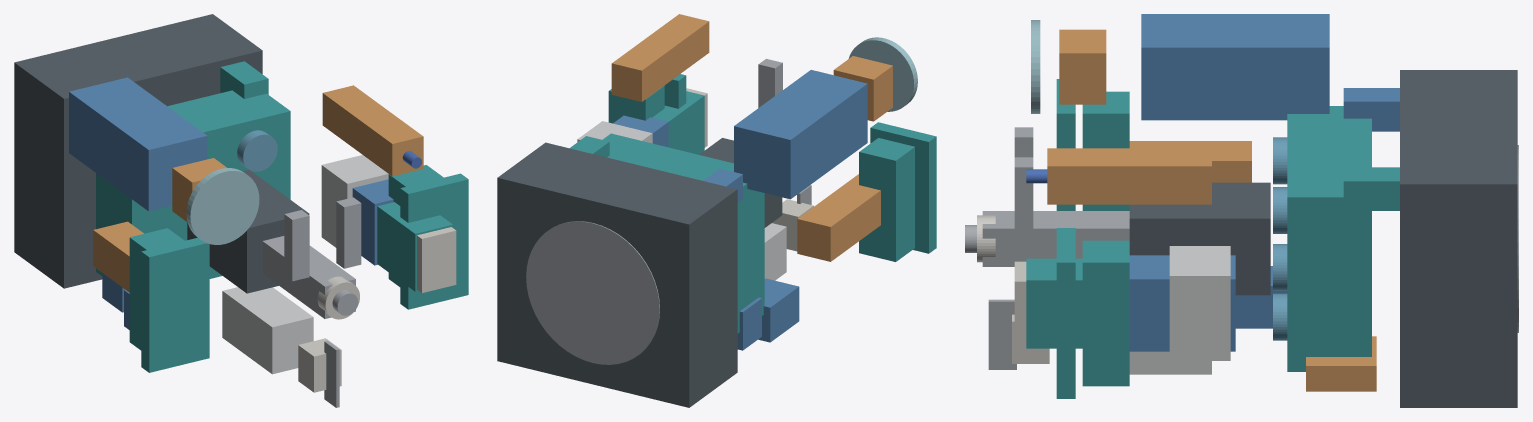
Rendered from dranmar_tumor_resection_tool_map.glb.
The picture shows the model from 3 angles, left to right: view 1: azimuth 30°, elevation 25°; view 2: azimuth 150°, elevation 25°; view 3: azimuth 270°, elevation 25°; orthographic projection. The views are drawn at different scales.
Parts seen in each view (by area): view 1: Mount_MountBody, BagDeployer_BagDeployerBody, SensorTurret_SensorTurretBody, LeftTraction_LeftPad, ScissorCarriage_ScissorCarriageBody, MarginMarker_MarginMarkerBody, RightTraction_RightPad, AspiratorCarriage_AspiratorCarriageBody, BagDeployer_BagRing, UltrasoundCompliance_UltrasoundComplianceBody, AspiratorRotor_AspiratorRotorBody, UltrasoundCarriage_UltrasoundCarriageBody (+15 smaller); view 2: Mount_MountBody, Mount_MountRing, BagDeployer_BagDeployerBody, SensorTurret_SensorTurretBody, LeftTraction_LeftTractionBody, MarginMarker_MarginMarkerBody, RamanProbe_RamanProbeBody, LeftTraction_LeftPad, BagDeployer_BagRing, UltrasoundCompliance_UltrasoundComplianceBody, BagClosure_BagClosureBody, OCTScannerY_OCTScannerYBody (+11 smaller); view 3: Mount_MountBody, BagDeployer_BagDeployerBody, SensorTurret_SensorTurretBody, AspiratorCarriage_AspiratorCarriageBody, MarginMarker_MarginMarkerBody, UltrasoundCarriage_UltrasoundCarriageBody, RightTraction_RightTractionBody, AspiratorRotor_AspiratorRotorBody, UltrasoundPitch_UltrasoundPitchBody, BagClosure_BagClosureBody, UltrasoundCompliance_UltrasoundComplianceBody, RightTraction_RightPad (+19 smaller).
Part boxes in pixels (box(x1,y1,x2,y2)): Mount_MountBody: box(14, 14, 262, 288); BagDeployer_BagDeployerBody: box(69, 77, 207, 211); SensorTurret_SensorTurretBody: box(96, 90, 290, 278); LeftTraction_LeftPad: box(141, 237, 209, 372); ScissorCarriage_ScissorCarriageBody: box(222, 287, 313, 374); MarginMarker_MarginMarkerBody: box(322, 85, 423, 176); RightTraction_RightPad: box(400, 173, 468, 309); AspiratorCarriage_AspiratorCarriageBody: box(187, 169, 309, 293); BagDeployer_BagRing: box(186, 168, 259, 244); UltrasoundCompliance_UltrasoundComplianceBody: box(377, 202, 453, 291); AspiratorRotor_AspiratorRotorBody: box(262, 236, 355, 318); UltrasoundCarriage_UltrasoundCarriageBody: box(321, 155, 388, 247); Mount_MountBody: box(497, 142, 737, 407); Mount_MountRing: box(526, 221, 659, 364); BagDeployer_BagDeployerBody: box(734, 70, 867, 199); SensorTurret_SensorTurretBody: box(602, 133, 764, 333); LeftTraction_LeftTractionBody: box(859, 138, 914, 261); MarginMarker_MarginMarkerBody: box(611, 14, 709, 101); RamanProbe_RamanProbeBody: box(797, 174, 880, 261); LeftTraction_LeftPad: box(870, 122, 936, 253); BagDeployer_BagRing: box(848, 37, 917, 111); UltrasoundCompliance_UltrasoundComplianceBody: box(652, 91, 704, 154); BagClosure_BagClosureBody: box(833, 56, 892, 121); OCTScannerY_OCTScannerYBody: box(758, 278, 799, 342); Mount_MountBody: box(1400, 70, 1517, 407); BagDeployer_BagDeployerBody: box(1141, 14, 1329, 120); SensorTurret_SensorTurretBody: box(1287, 106, 1371, 371); AspiratorCarriage_AspiratorCarriageBody: box(1129, 182, 1270, 295); MarginMarker_MarginMarkerBody: box(1047, 148, 1211, 204); UltrasoundCarriage_UltrasoundCarriageBody: box(1169, 246, 1230, 360); RightTraction_RightTractionBody: box(1082, 240, 1129, 386); AspiratorRotor_AspiratorRotorBody: box(982, 211, 1129, 266); UltrasoundPitch_UltrasoundPitchBody: box(1129, 255, 1235, 351); BagClosure_BagClosureBody: box(1059, 29, 1106, 104); UltrasoundCompliance_UltrasoundComplianceBody: box(1026, 258, 1082, 348); RightTraction_RightPad: box(1056, 228, 1075, 398).
Size of the model in its own units: 0.185 by 0.136 by 0.2355.
